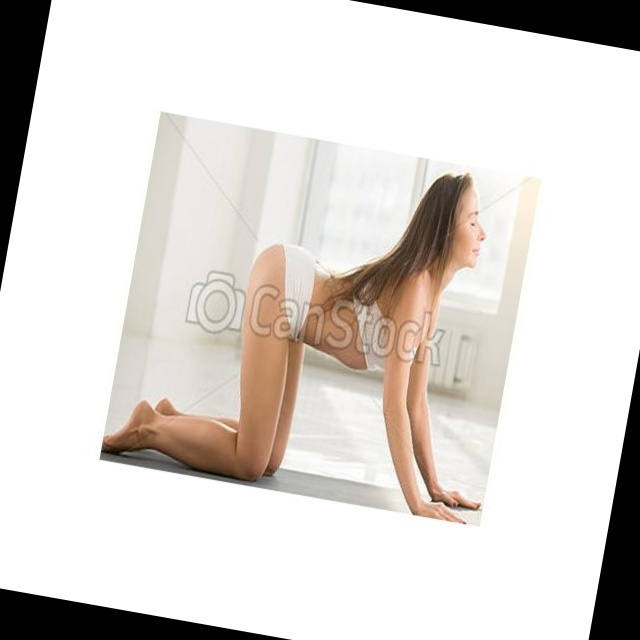Cow_Pose: (103, 172, 485, 525)
